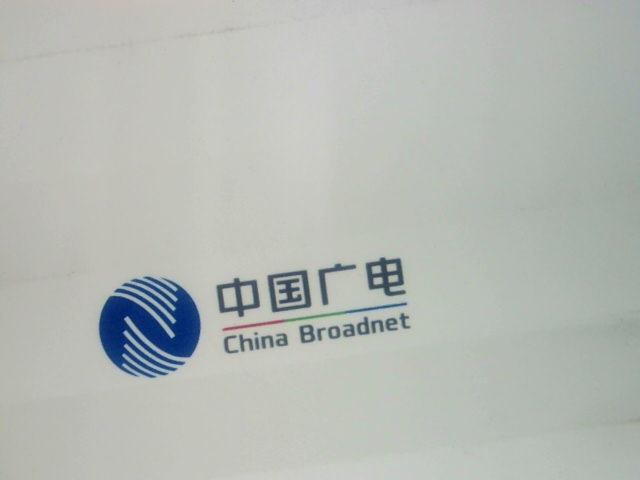AW_ChinaBroadNet: (78, 240, 448, 390)
